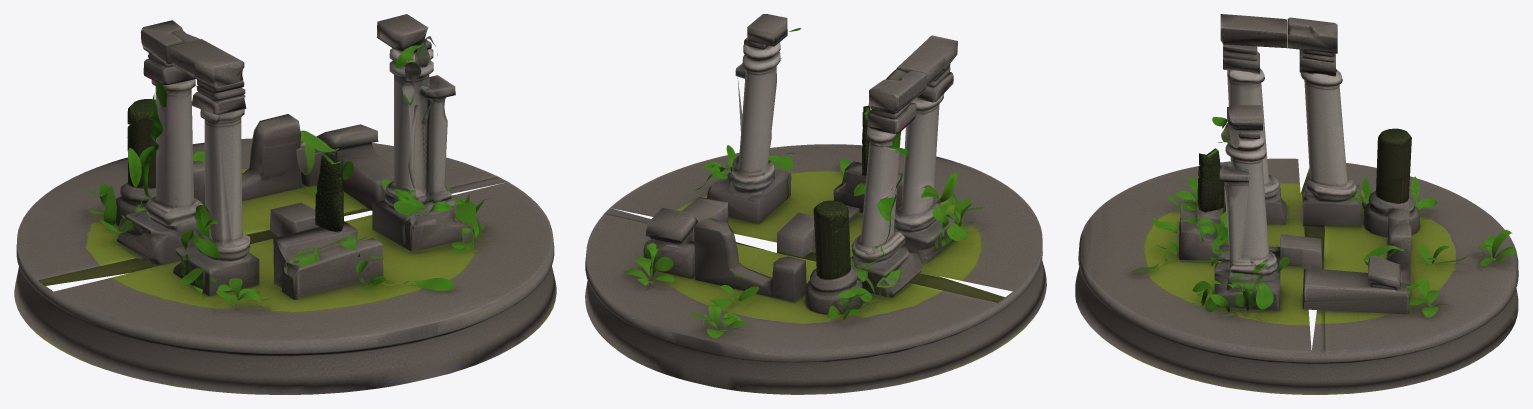
The model's file is ruins.glb.
3 renders of one model, left to right at view 1: azimuth 30°, elevation 25°; view 2: azimuth 150°, elevation 25°; view 3: azimuth 270°, elevation 25°, orthographic. The views are drawn at different scales.
Parts seen in each view (by area): view 1: f6826159_213b_494e_8613_f715b01c27d7; view 2: f6826159_213b_494e_8613_f715b01c27d7; view 3: f6826159_213b_494e_8613_f715b01c27d7.
Part boxes in pixels (x1,y1,x2,y2): f6826159_213b_494e_8613_f715b01c27d7: (14,14,556,394); f6826159_213b_494e_8613_f715b01c27d7: (585,14,1046,394); f6826159_213b_494e_8613_f715b01c27d7: (1075,14,1518,394).
Bounding box in the file's own units: 0.9995 × 0.6089 × 0.9995.
1 material, 1 textured.
